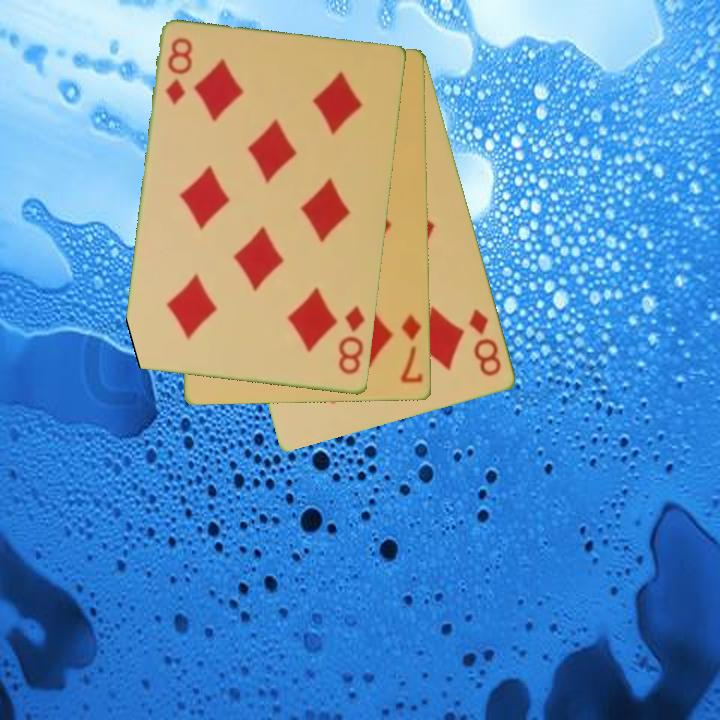7d: (397, 311, 426, 386)
8d: (465, 305, 505, 380), (162, 34, 196, 108), (335, 302, 368, 378)
